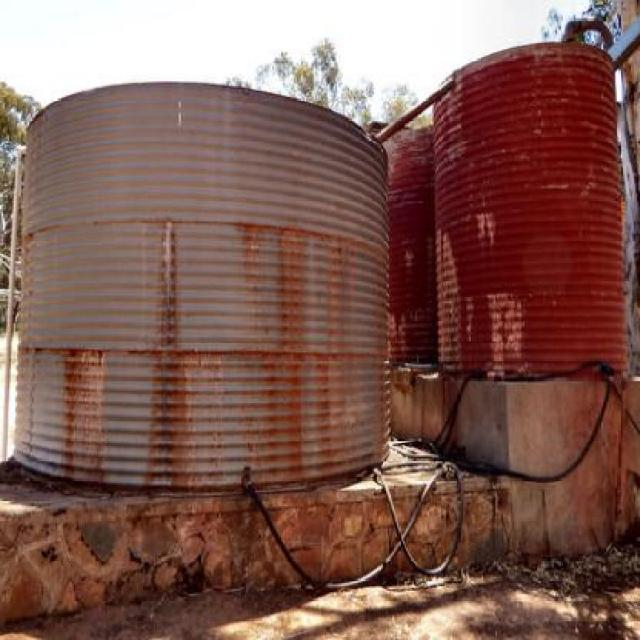corrosion: (12, 74, 394, 480), (434, 40, 629, 371), (394, 127, 435, 368)
